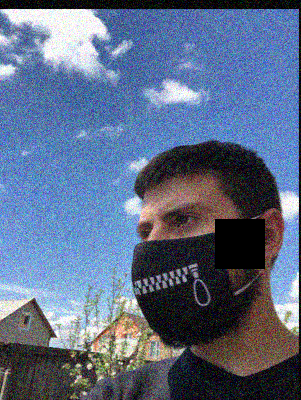with_mask: (130, 198, 240, 350)
